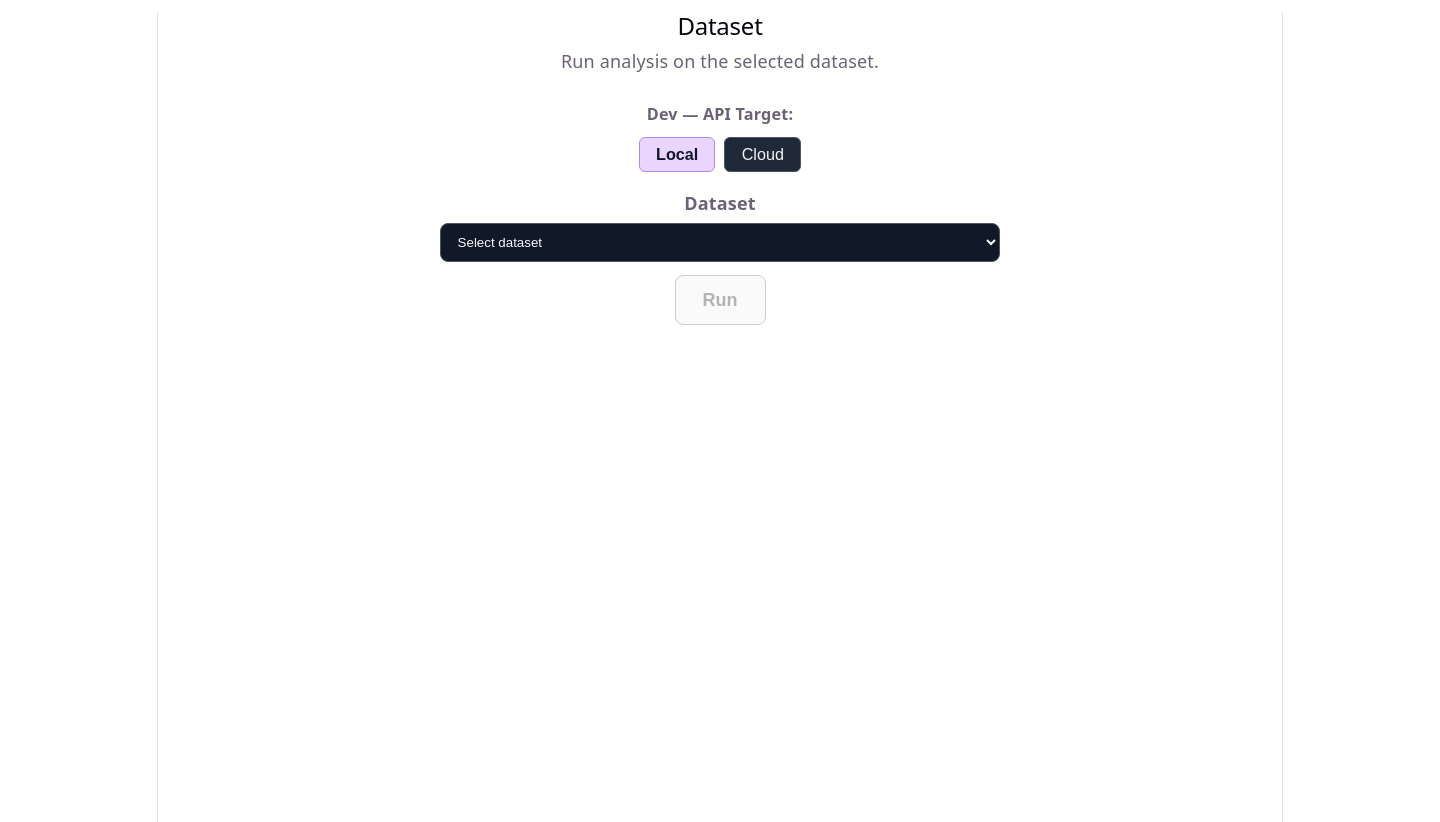
DatasetTab › keeps SQL Run disabled when SQL startup fails and shows backend error
Select "Sales SQL" in the dropdown labelled "Dataset" at (720,243), box [440,223,1000,262]
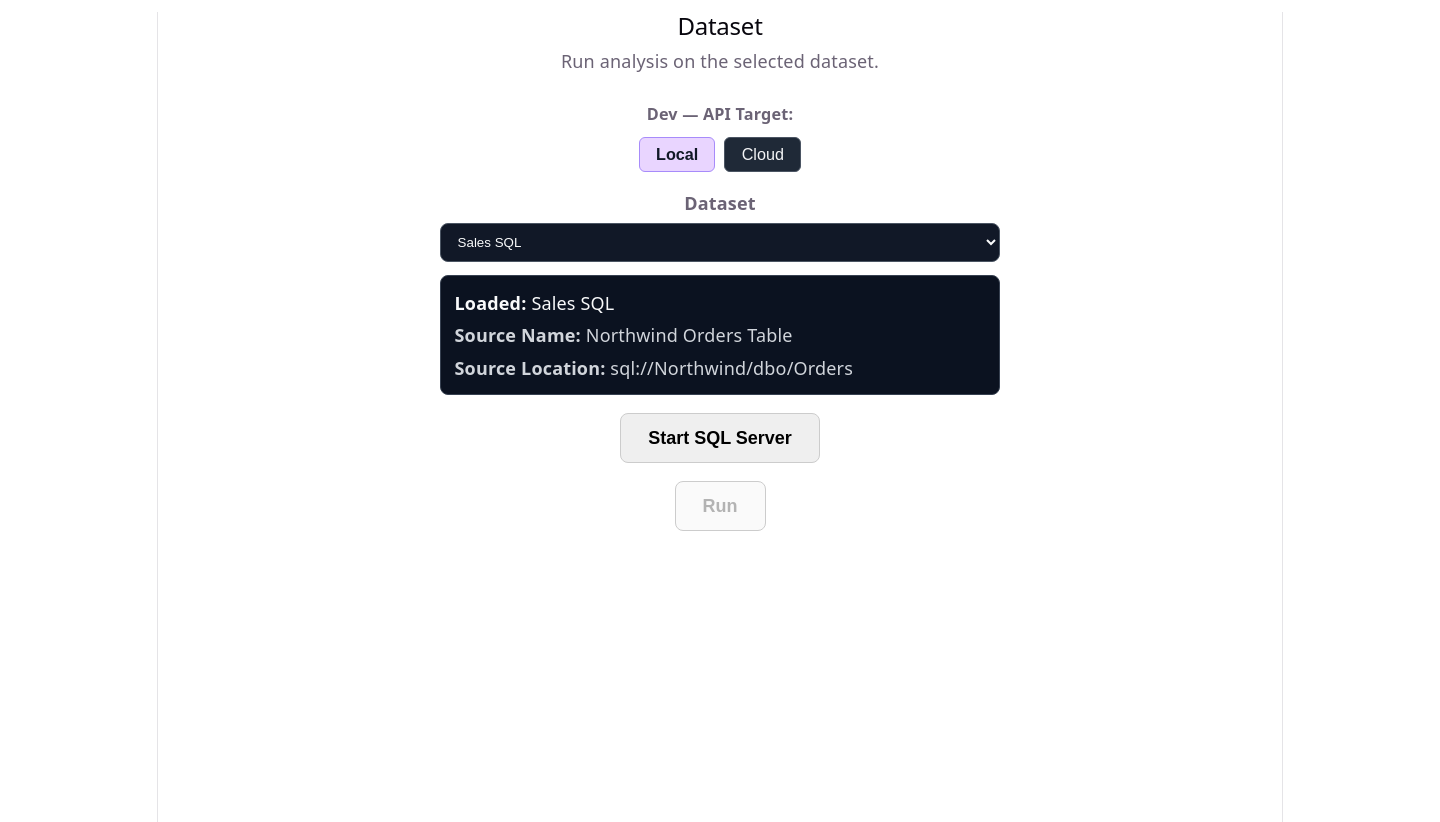
Expected: the button "Run" is disabled, [674,481,766,531]
Click the button "Start SQL Server" at (720,438), box [620,413,820,463]
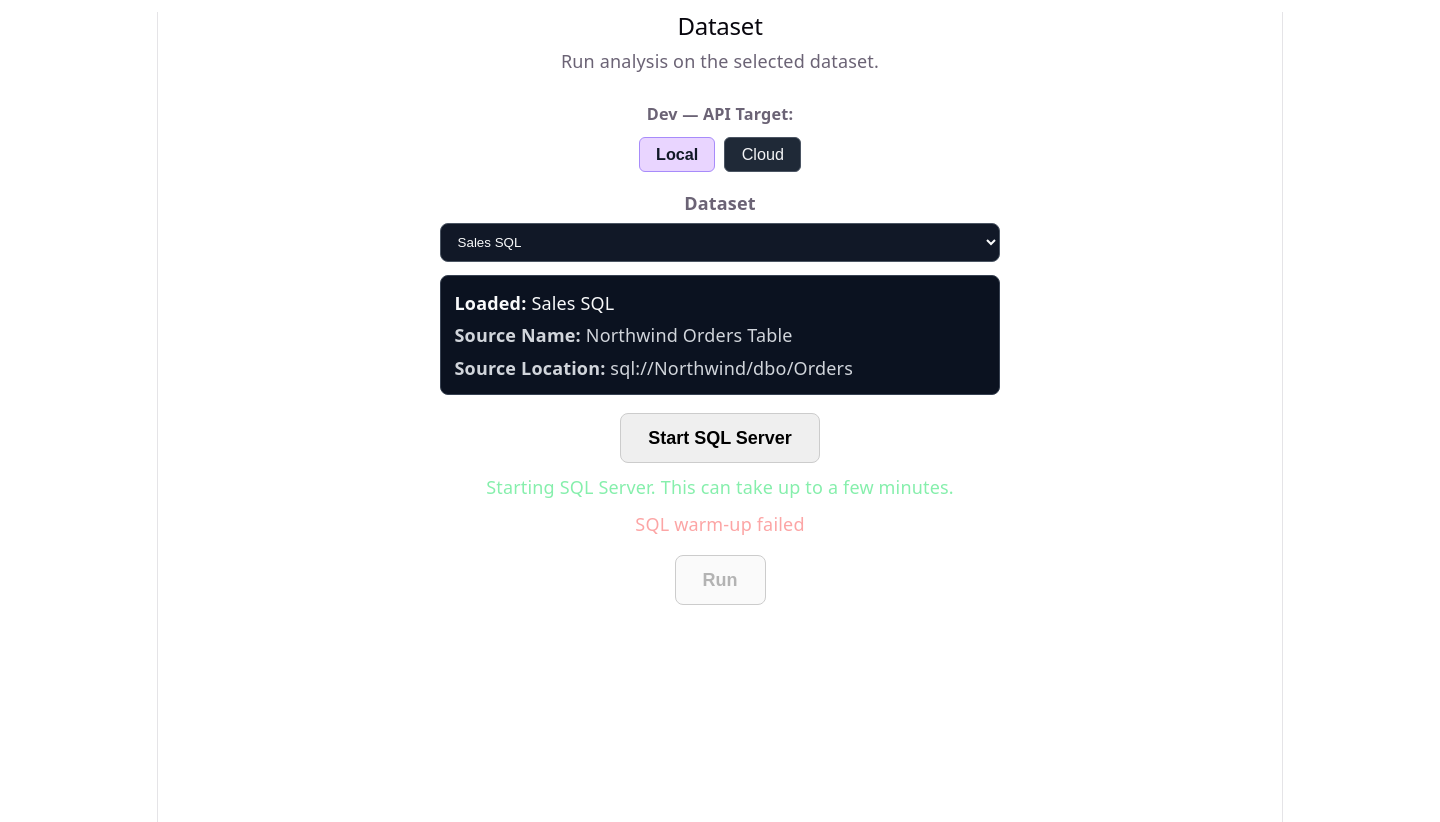
Expected: the button "Run" is disabled, [674,555,766,605]
Result: the text "SQL warm-up failed" is shown at [635,512,805,536]
